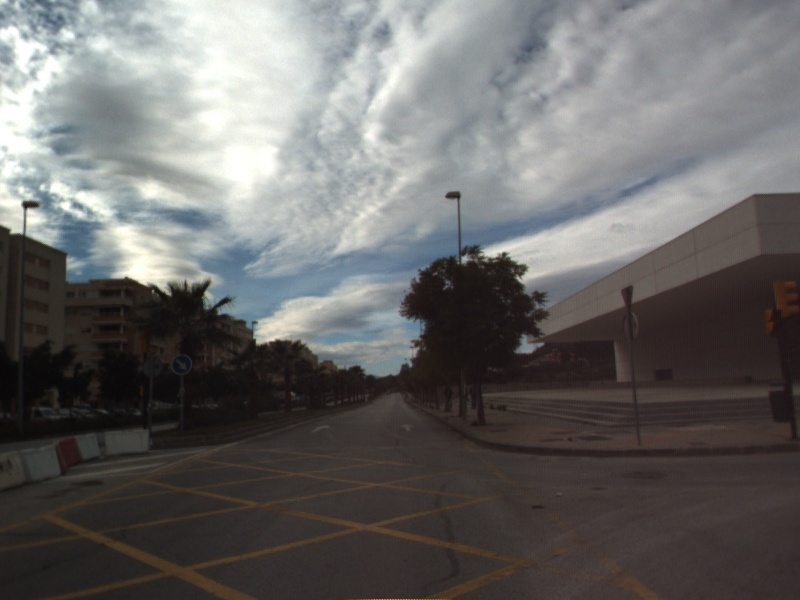STRAIGHT: (308, 422, 333, 435), (397, 421, 419, 433)
